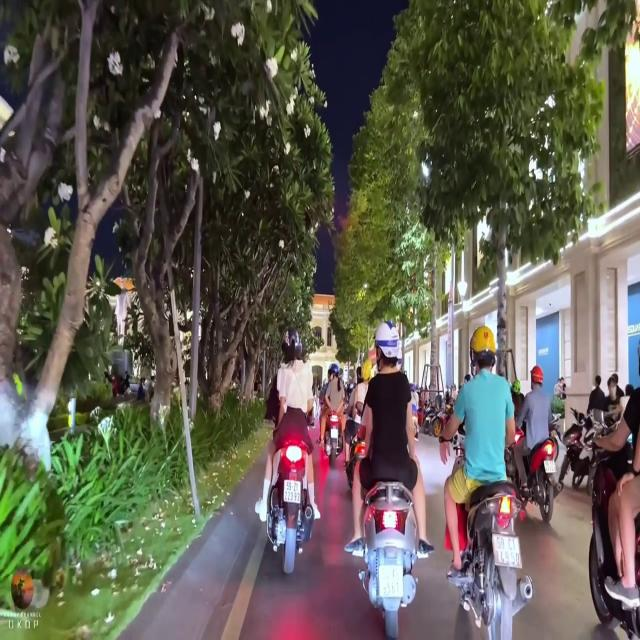bien_trang: (490, 529, 524, 570), (280, 476, 302, 510)
